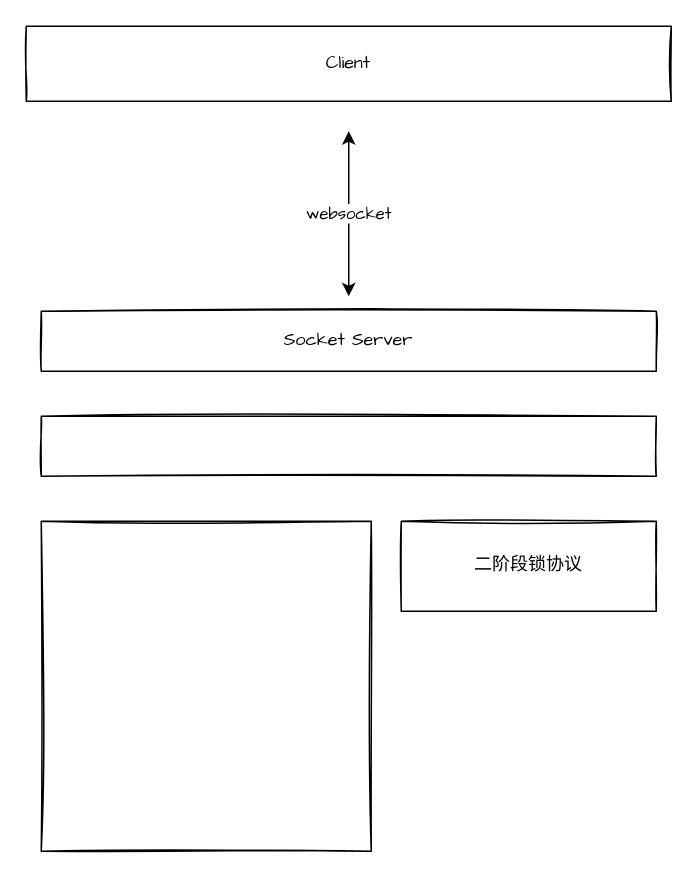
The diagram is 698 pixels wide and 878 high, and some of its shapes have lost their labels. Here are the shapes that lost their labels. From the top down, the centre of each, then its label:
At pixel 348 445: "SQL解析".
At pixel 205 685: "数据存储".
